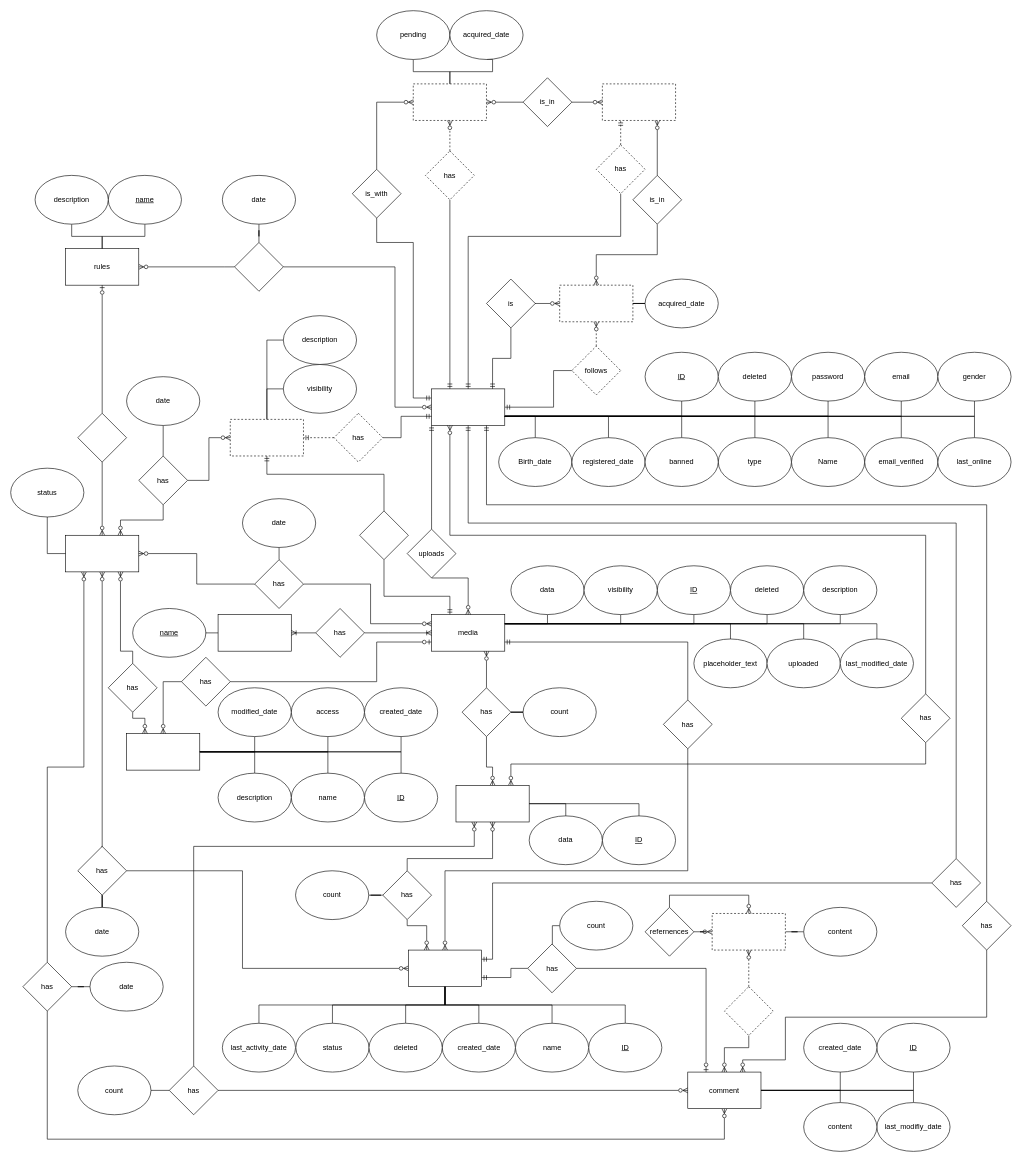
Image size: 1022x1162. Some labels were removed from this diagram. The shapes that lost their labels are listed below. From the top down, each one's centre as x and y in pixels, then its label:
At point (449, 101): "friends".
At point (639, 101): "activity_feed".
At point (258, 266): "violated".
At point (596, 303): "followed".
At point (468, 406): "User".
At point (102, 437): "violates".
At point (266, 437): "profile".
At point (102, 553): "flagged".
At point (383, 535): "has_ avatar_ pic".
At point (254, 632): "tag".
At point (163, 751): "Carousel".
At point (492, 803): "reaction".
At point (748, 931): "quote".
At point (445, 968): "thread".
At point (748, 1010): "quotes".
